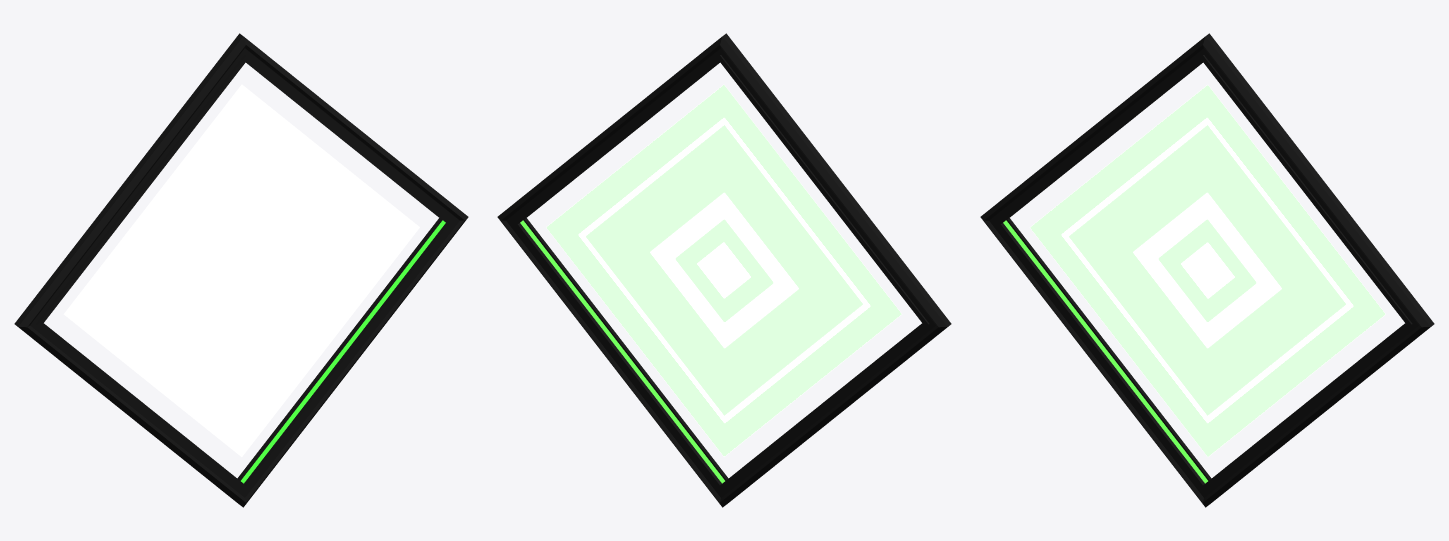
Rendered from Target.fbx.
3 renders of one model, left to right at view 1: azimuth 30°, elevation 25°; view 2: azimuth 150°, elevation 25°; view 3: azimuth 330°, elevation 25°, orthographic.
Visible parts, largest first — view 1: Plane, Cube; view 2: Plane, Cube; view 3: Plane, Cube.
Boxes of the visible parts, bbox=[...] form: Plane: bbox=[63, 84, 419, 456]; Cube: bbox=[14, 33, 468, 507]; Plane: bbox=[546, 84, 902, 456]; Cube: bbox=[497, 33, 951, 507]; Plane: bbox=[1029, 84, 1385, 456]; Cube: bbox=[980, 33, 1434, 507].
Size of the model in its own units: 227 by 227 by 7.94.
